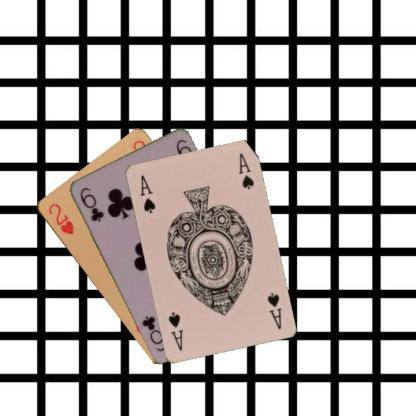2h: (45, 200, 75, 236)
6c: (77, 183, 105, 223)
As: (137, 172, 157, 214), (264, 290, 283, 330)
